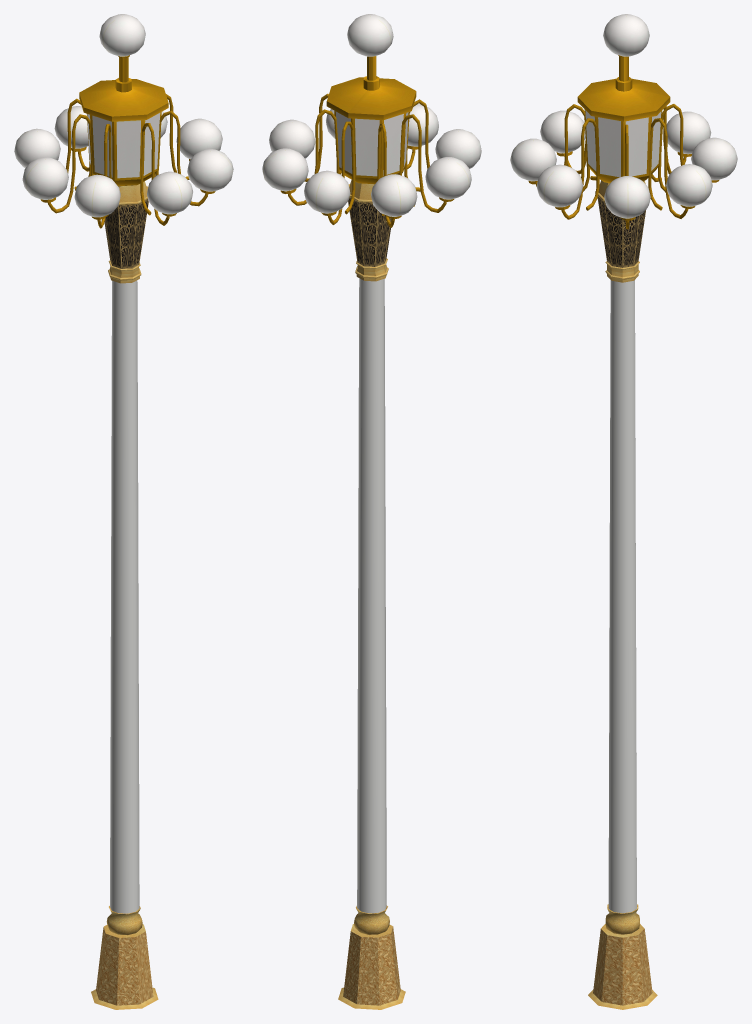
Rendered from zhonghuadeng.gltf.
The picture shows the model from 3 angles, left to right: view 1: azimuth 30°, elevation 25°; view 2: azimuth 150°, elevation 25°; view 3: azimuth 270°, elevation 25°; orthographic projection.
Parts seen in each view (by area): view 1: Cylinder005; view 2: Cylinder005; view 3: Cylinder005.
Part boxes in pixels (box(x1,y1,x2,y2)): Cylinder005: box(14, 14, 233, 1009); Cylinder005: box(262, 14, 481, 1009); Cylinder005: box(510, 14, 737, 1009).
Bounding box in the file's own units: 2.07 × 9.9 × 2.09.
Materials: 6 (6 with a texture image).
